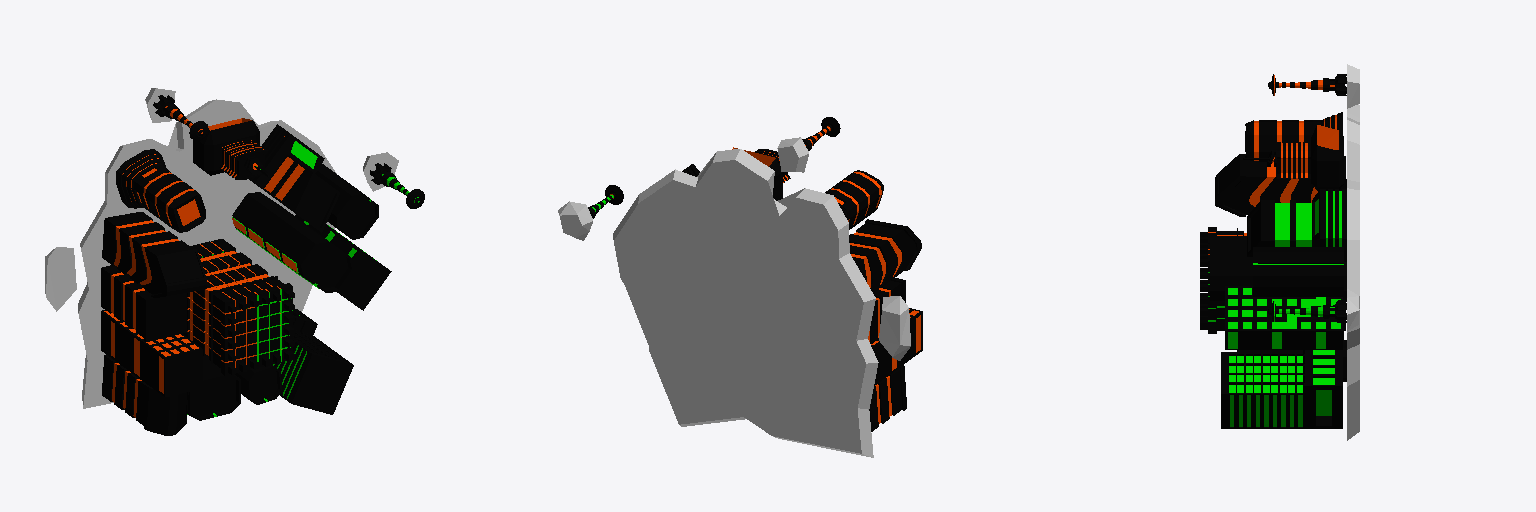
Rendered from ville3.obj.
3 renders of one model, left to right at view 1: azimuth 30°, elevation 25°; view 2: azimuth 150°, elevation 25°; view 3: azimuth 270°, elevation 25°, orthographic.
Visible parts, largest first — view 1: Cube, Plane; view 2: Plane, Cube; view 3: Cube, Plane.
Part boxes in pixels (left/top/right/bottom): Cube: left=101, top=95, right=424, bottom=435; Plane: left=45, top=88, right=398, bottom=408; Plane: left=558, top=137, right=910, bottom=457; Cube: left=588, top=117, right=922, bottom=431; Cube: left=1200, top=74, right=1346, bottom=428; Plane: left=1347, top=64, right=1359, bottom=440.
Size of the model in its own units: 183 by 158 by 71.87.